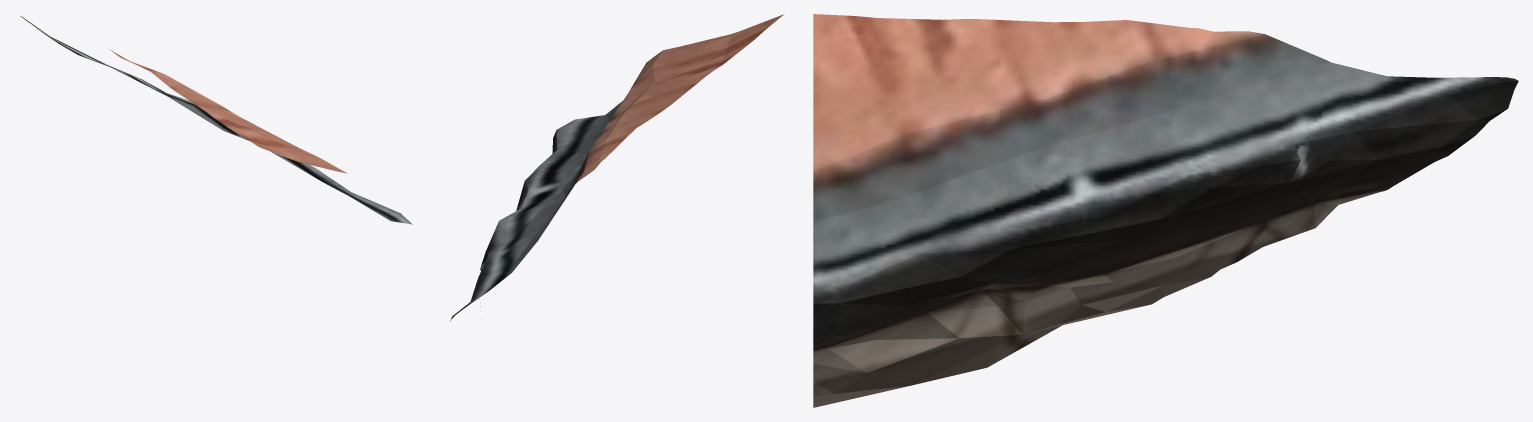
3 renders of one model, left to right at view 1: azimuth 30°, elevation 25°; view 2: azimuth 150°, elevation 25°; view 3: azimuth 270°, elevation 25°, orthographic. The views are drawn at different scales.
Bounding box in the file's own units: 0.3825 × 0.5915 × 1.01.
Materials: 1 (1 with a texture image).
